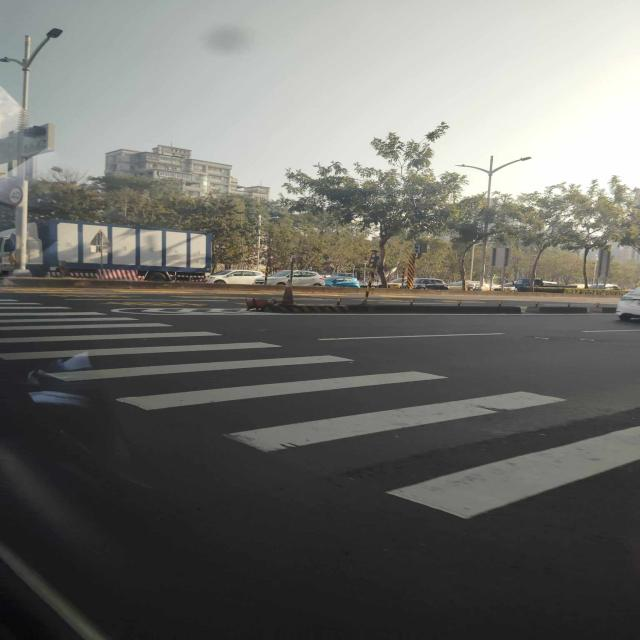zebra_crossing: (2, 114, 8, 468)
